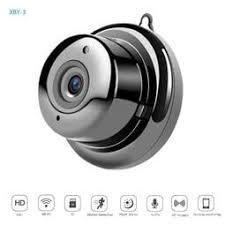maru: (35, 21, 183, 169)
